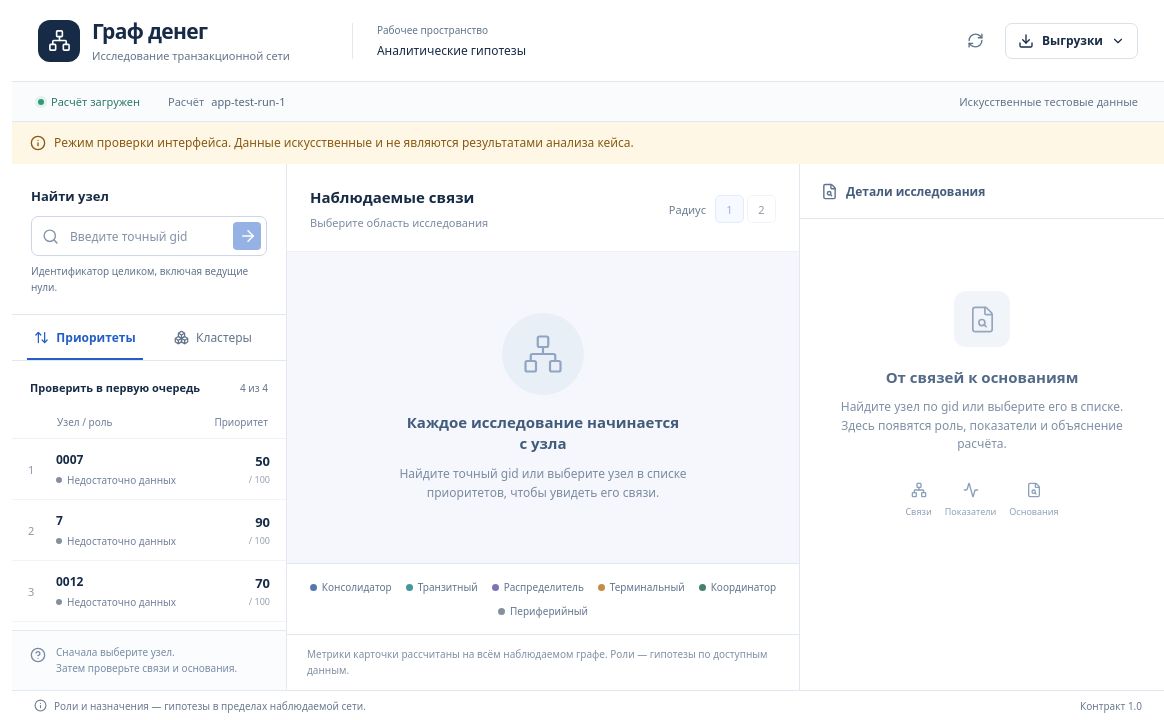
dataset source notice › uses the health header and updates the notice when the run source changes
Expected: the text "app-test-run-1" is shown, [211, 94, 286, 109]
Expected: the text "Искусственные тестовые данные" is shown, [959, 94, 1138, 109]
Click the button named "Обновить набор данных" at (976, 40), box [959, 24, 993, 58]
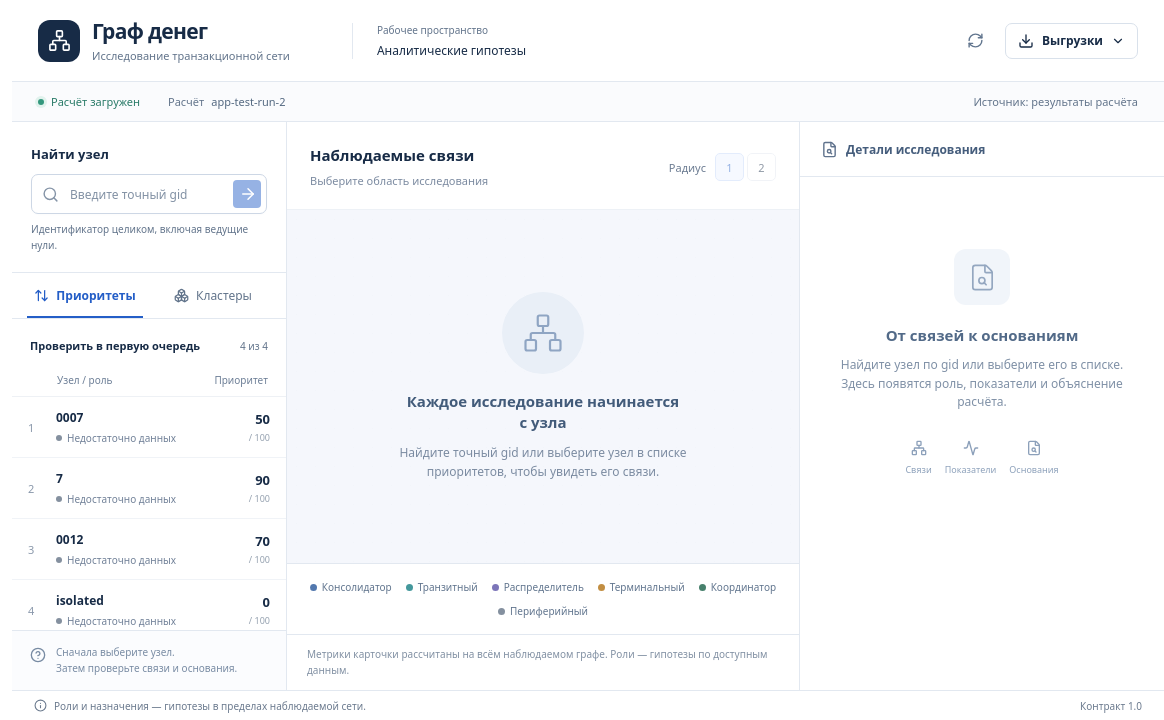
Expected: the text "app-test-run-2" is shown, [211, 94, 286, 109]
Expected: the text "Данные искусственные и не являются" is gone
Expected: the text "Источник: результаты расчёта" is shown, [973, 94, 1138, 109]
